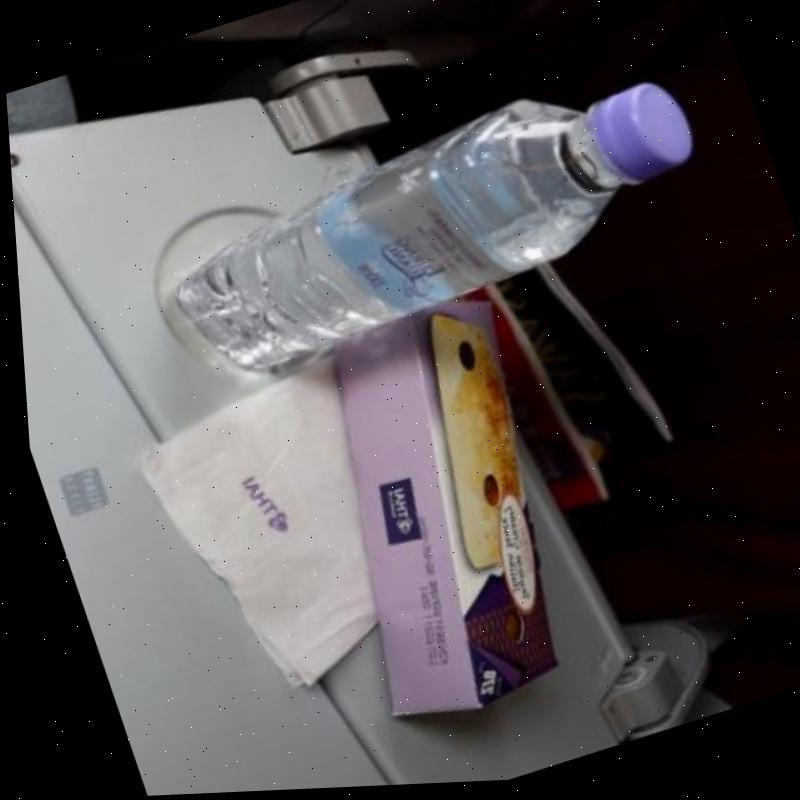botella: (135, 54, 726, 391)
